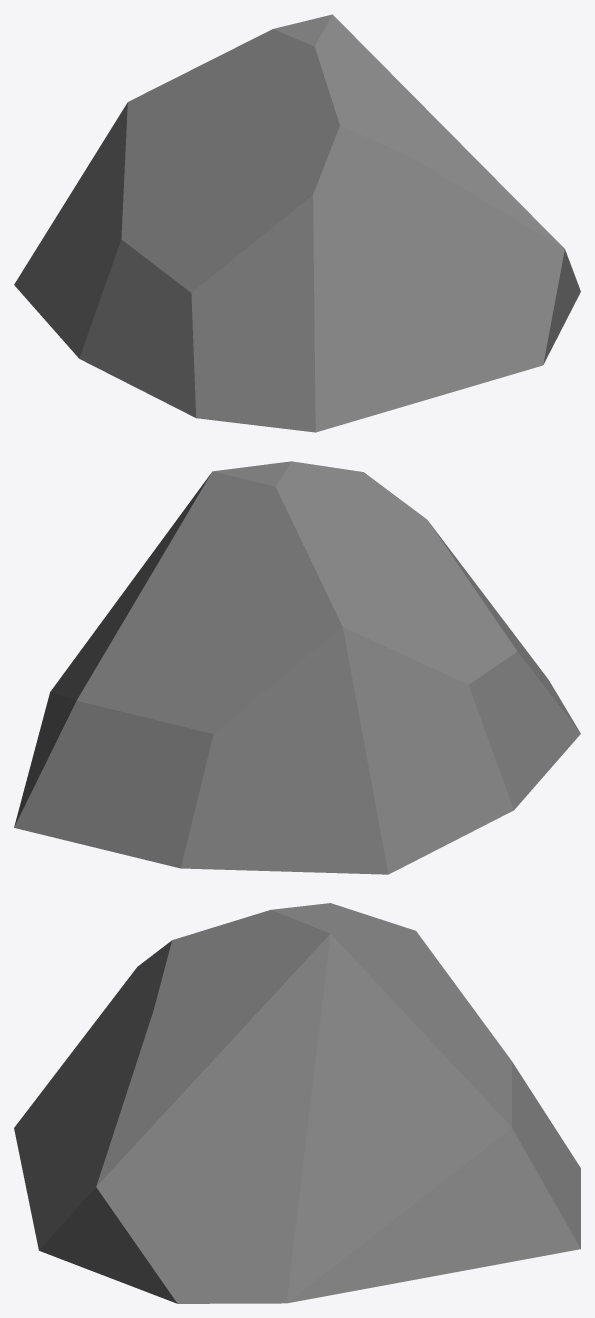
File: Rock_06.fbx
3 views of the same model, one above another, from view 1: azimuth 30°, elevation 25°; view 2: azimuth 150°, elevation 25°; view 3: azimuth 270°, elevation 25° (orthographic). The views are drawn at different scales.
Visible parts, largest first — view 1: Rock_06; view 2: Rock_06; view 3: Rock_06.
Boxes of the visible parts, x1,y1,x2,y2 form: Rock_06: [14, 14, 580, 432]; Rock_06: [14, 461, 580, 874]; Rock_06: [14, 903, 580, 1303].
Size of the model in its own units: 282 by 162 by 296.
